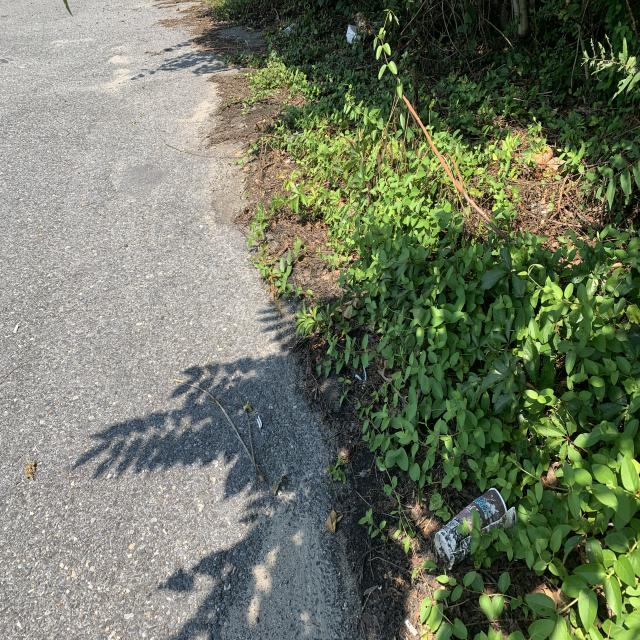Cup: (426, 477, 530, 574)
Plastic: (282, 21, 298, 39)
Trash -everything else-: (345, 23, 363, 45)
